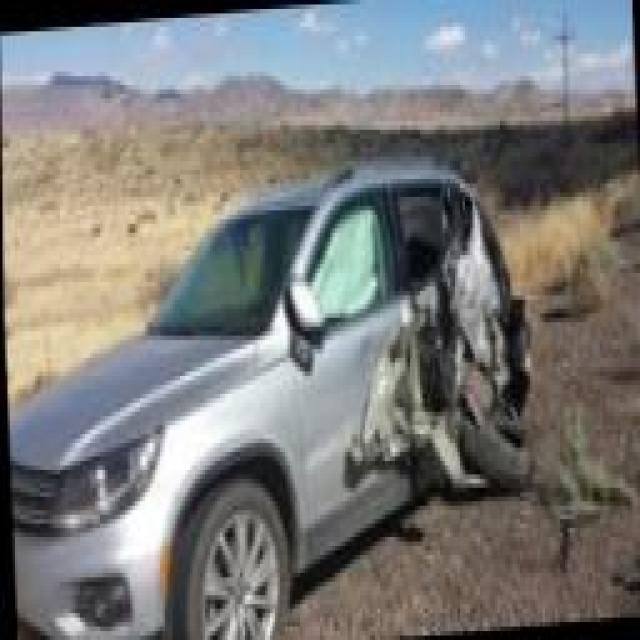Bumper: (500, 297, 534, 405)
Door: (348, 169, 507, 488)
